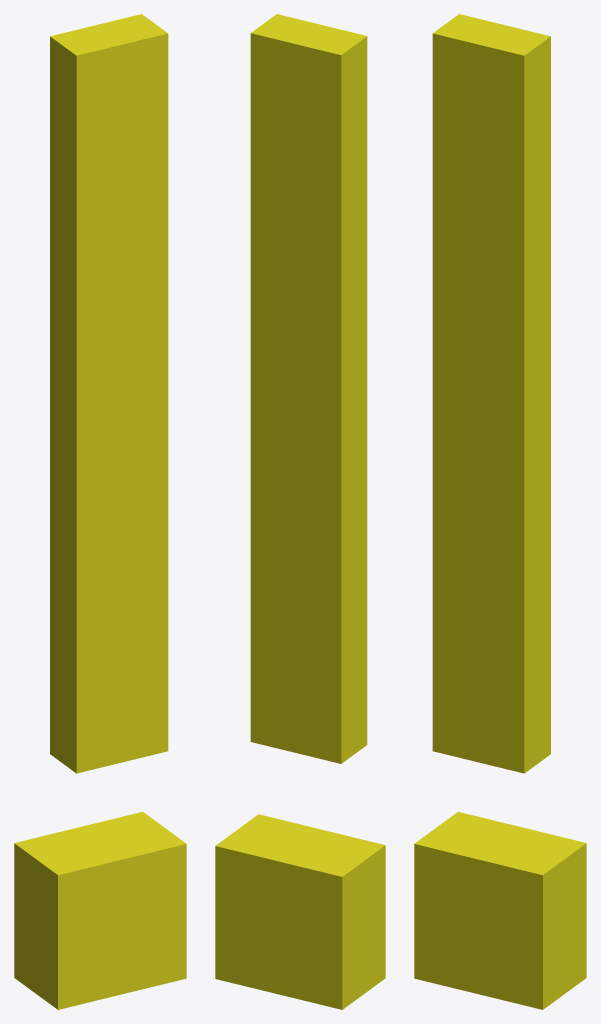
File: infoSign.fbx
3 renders of one model, left to right at view 1: azimuth 30°, elevation 25°; view 2: azimuth 150°, elevation 25°; view 3: azimuth 330°, elevation 25°, orthographic.
Visible parts, largest first — view 1: Plane, Plane.001; view 2: Plane, Plane.001; view 3: Plane, Plane.001.
Part boxes in pixels (<box>): Plane: <box>50,14,168,773</box>; Plane.001: <box>14,811,186,1009</box>; Plane: <box>250,14,367,763</box>; Plane.001: <box>215,814,385,1009</box>; Plane: <box>432,14,550,773</box>; Plane.001: <box>414,811,586,1009</box>.
Bounding box in the file's own units: 8 × 56.41 × 4.73.
